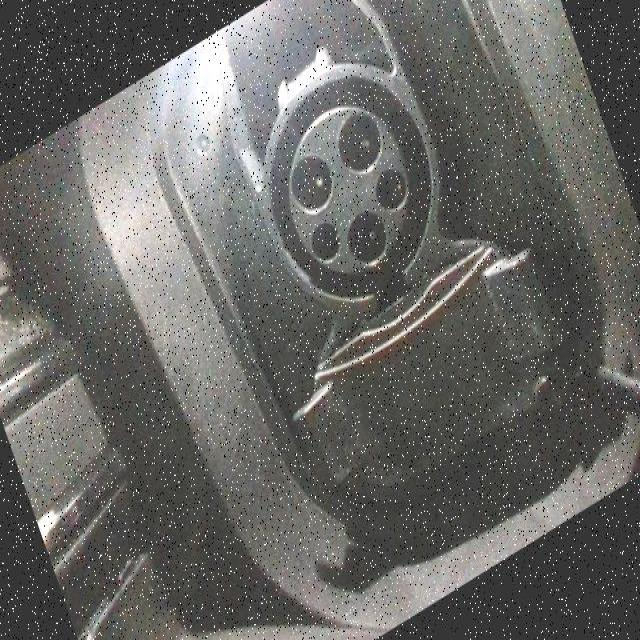Type 1: (243, 81, 451, 310)
